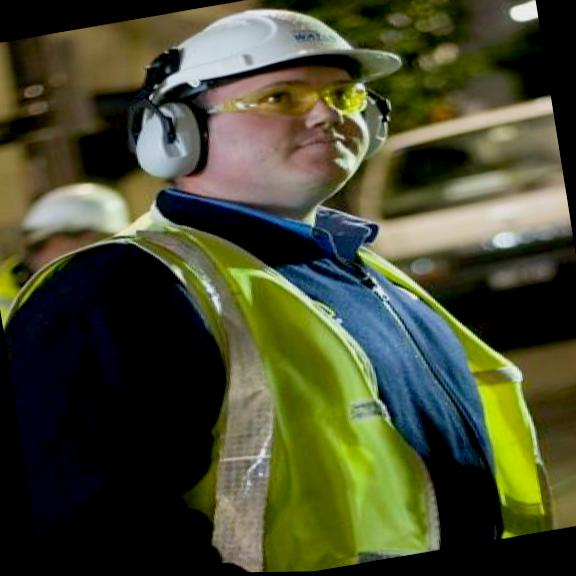safety_vest: (0, 150, 565, 576), (0, 244, 39, 386)
